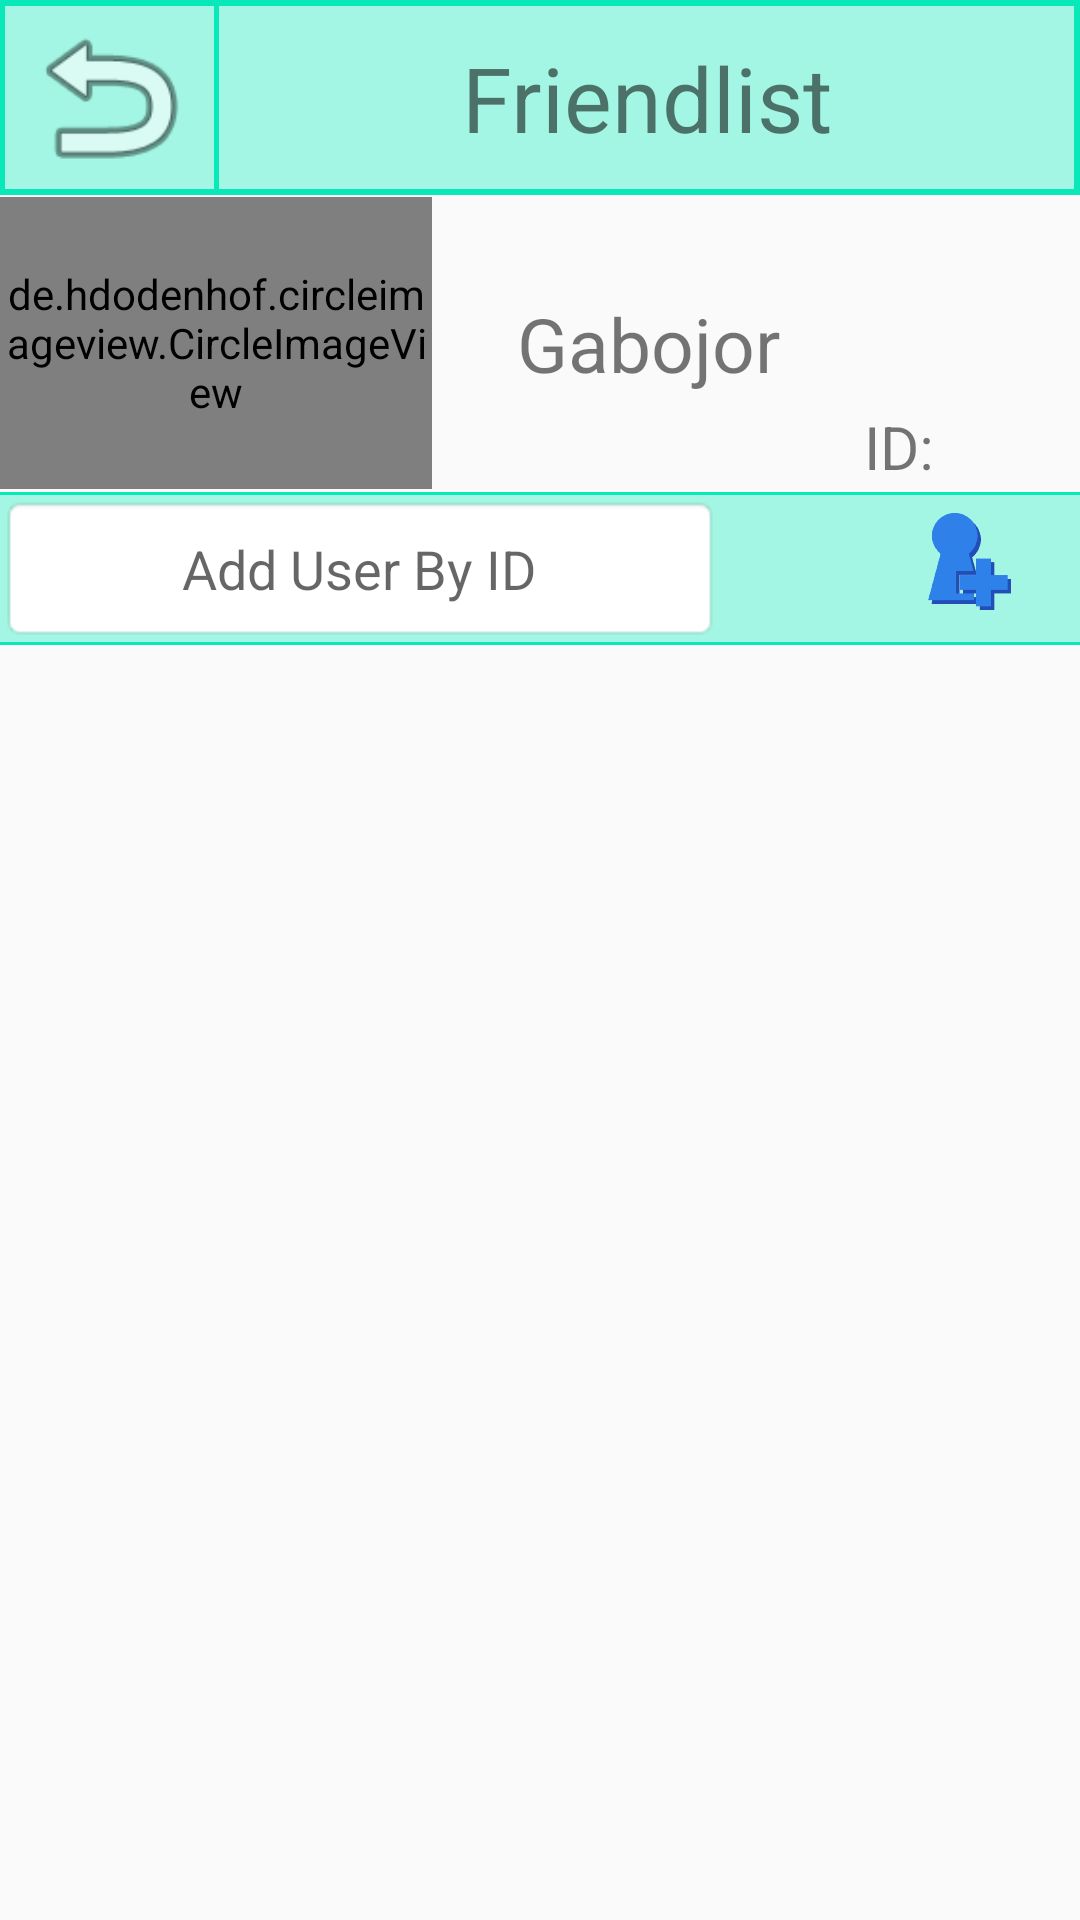

Icon click points for this 1080px x 1920px phone screenshot, format (x=x, y=y):
revert: (x=109, y=97)
